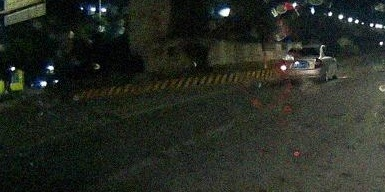L_light: (281, 61, 287, 70)
R_light: (315, 59, 322, 68)
T_light: (303, 48, 310, 50)
night-left: (281, 44, 323, 82)
